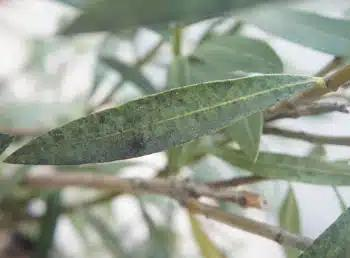BlackScale: (4, 74, 327, 168)
